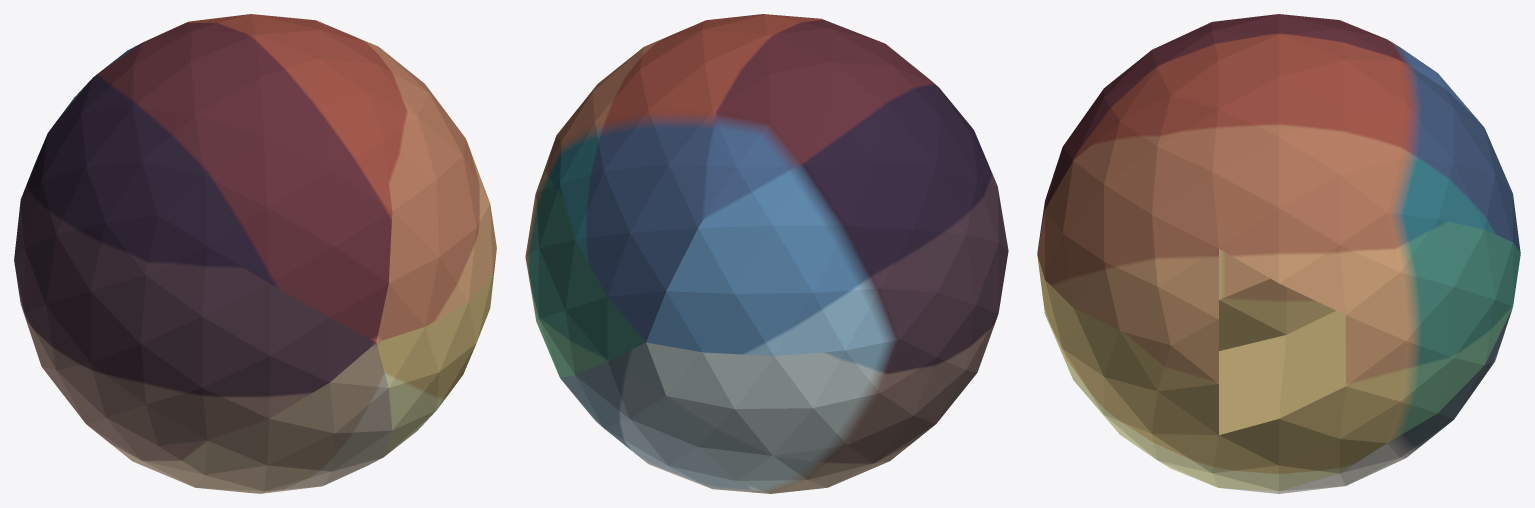
The model's file is contra_level_5_exit.fbx.
The picture shows the model from 3 angles, left to right: view 1: azimuth 30°, elevation 25°; view 2: azimuth 150°, elevation 25°; view 3: azimuth 270°, elevation 25°; orthographic projection.
Visible parts, largest first — view 1: Lv5Exit; view 2: Lv5Exit; view 3: Lv5Exit.
Boxes of the visible parts, box(x1,y1,x2,y2) form: Lv5Exit: box(14, 14, 496, 493); Lv5Exit: box(525, 14, 1008, 493); Lv5Exit: box(1037, 14, 1520, 493).
Bounding box in the file's own units: 7827 × 8000 × 8000.
